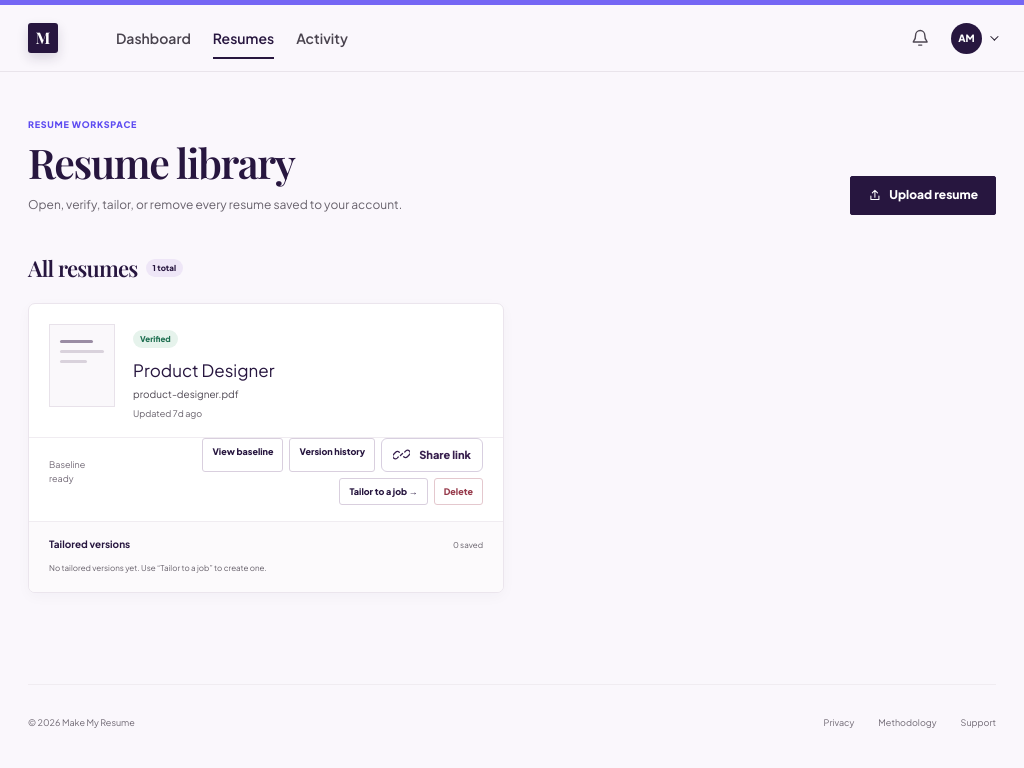
Test: WorkspaceCollectionPage › preserves permanent deletion from the dedicated resume library
The image size is (1024, 768).
Click the button with aria-label "Delete Product Designer" at coordinates (458, 492), box [434,478,483,505]
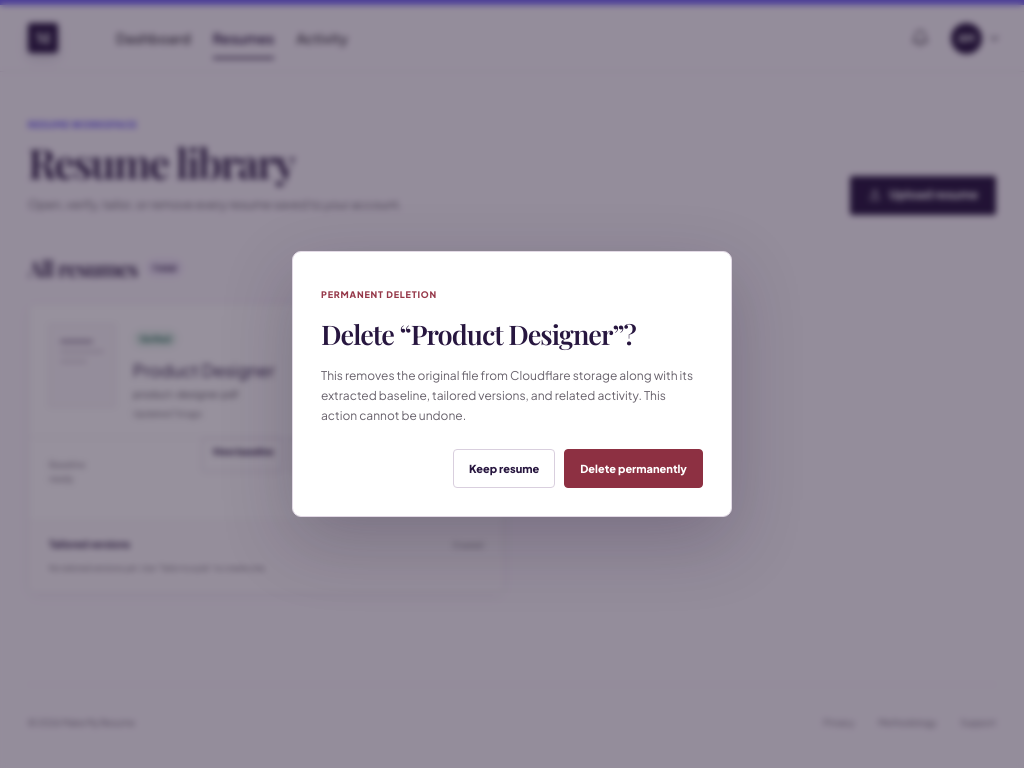
Click the button "Delete permanently" at coordinates (634, 469), box [564,449,703,488]
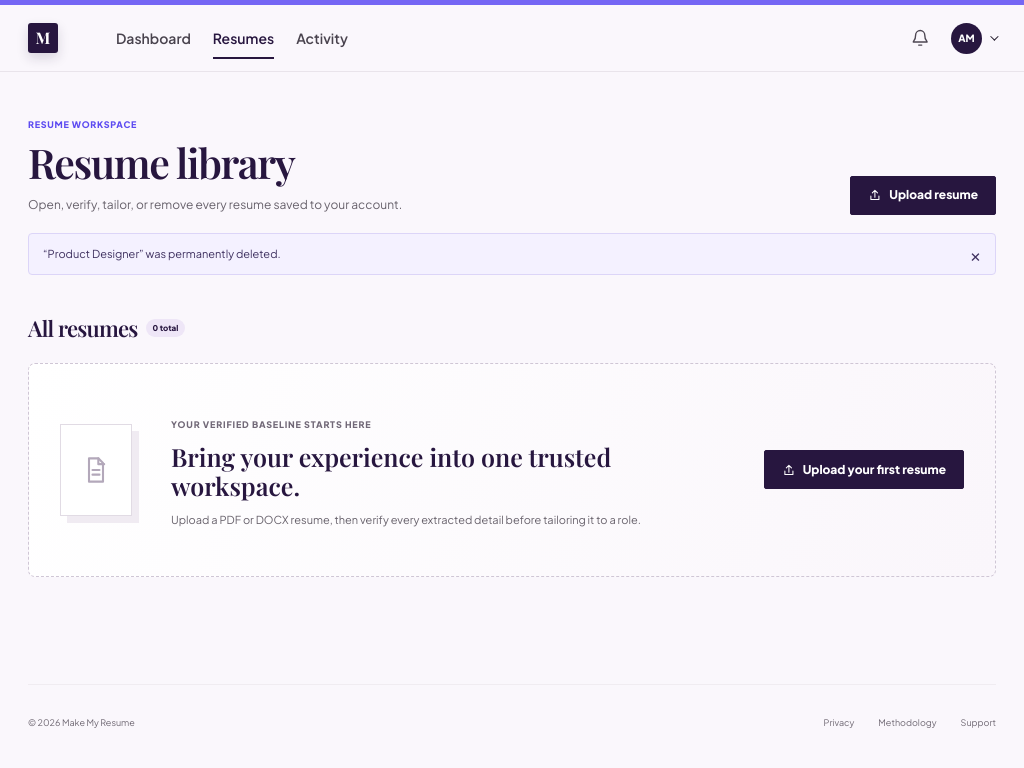
Check: the text "“Product Designer” was permanently deleted." is shown, box [43,246,281,262]
Check: the text "product-designer.pdf" is gone
